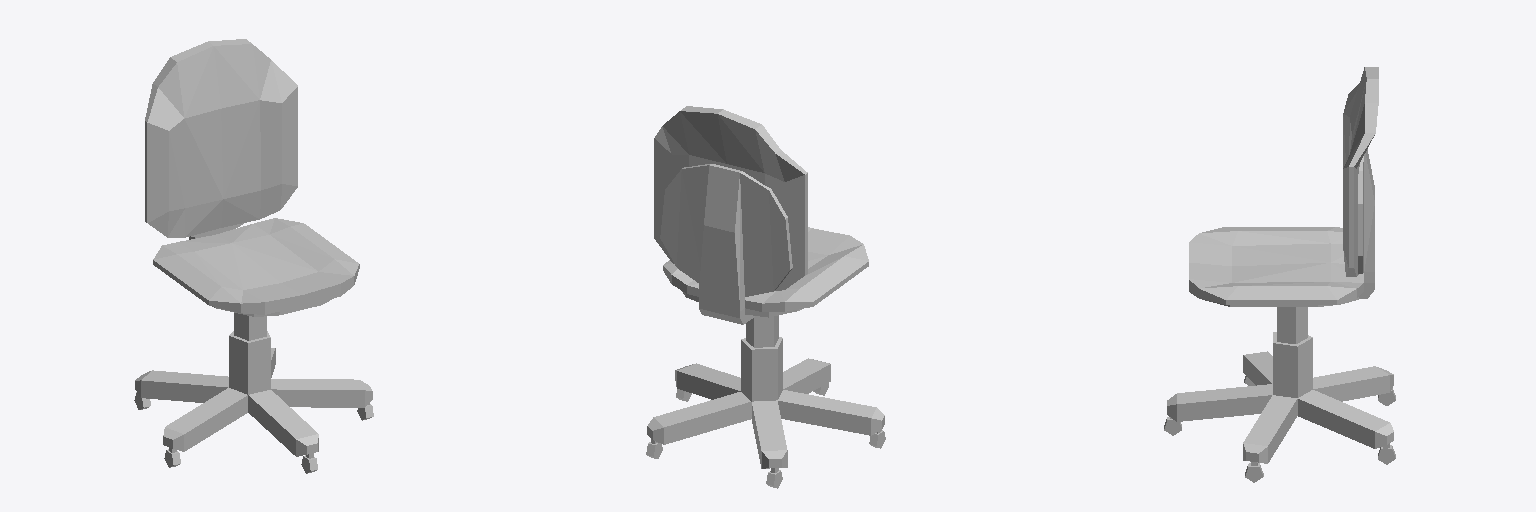
File: officeChair.obj
3 renders of one model, left to right at view 1: azimuth 30°, elevation 25°; view 2: azimuth 150°, elevation 25°; view 3: azimuth 270°, elevation 25°, orthographic.
Parts seen in each view (by area): view 1: Cube.009, Cube.008, Cylinder.001, Cube.007; view 2: Cube.007, Cylinder.001, Cube.009, Cube.008; view 3: Cylinder.001, Cube.008, Cube.009, Cube.007.
Boxes of the visible parts, x1=… form: Cube.009: x1=145, y1=39, x2=297, y2=237; Cube.008: x1=153, y1=218, x2=359, y2=314; Cylinder.001: x1=135, y1=313, x2=372, y2=456; Cube.007: x1=189, y1=223, x2=333, y2=316; Cube.007: x1=660, y1=164, x2=801, y2=324; Cylinder.001: x1=647, y1=315, x2=884, y2=468; Cube.009: x1=654, y1=106, x2=807, y2=290; Cube.008: x1=663, y1=227, x2=868, y2=311; Cylinder.001: x1=1167, y1=307, x2=1393, y2=463; Cube.008: x1=1189, y1=227, x2=1363, y2=304; Cube.009: x1=1343, y1=67, x2=1378, y2=276; Cube.007: x1=1202, y1=149, x2=1374, y2=306.
Size of the model in its own units: 1.25 by 2.05 by 1.21.